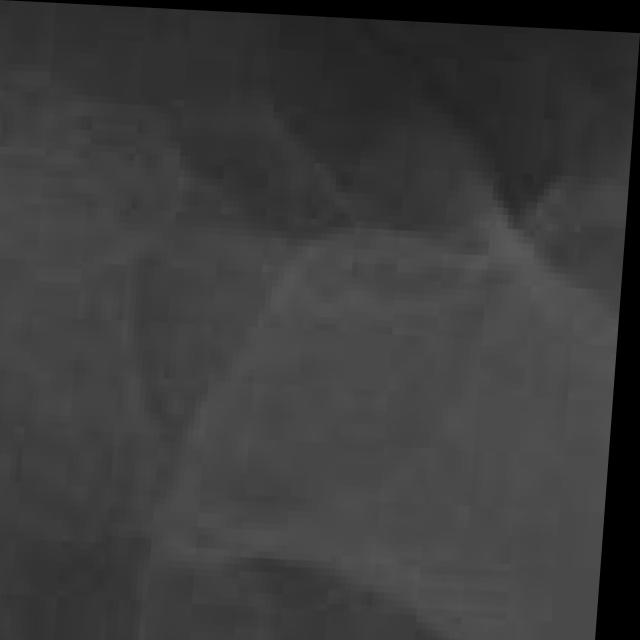fracture: (0, 24, 640, 640)
